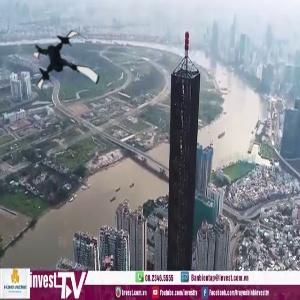drone: (28, 29, 104, 105)
